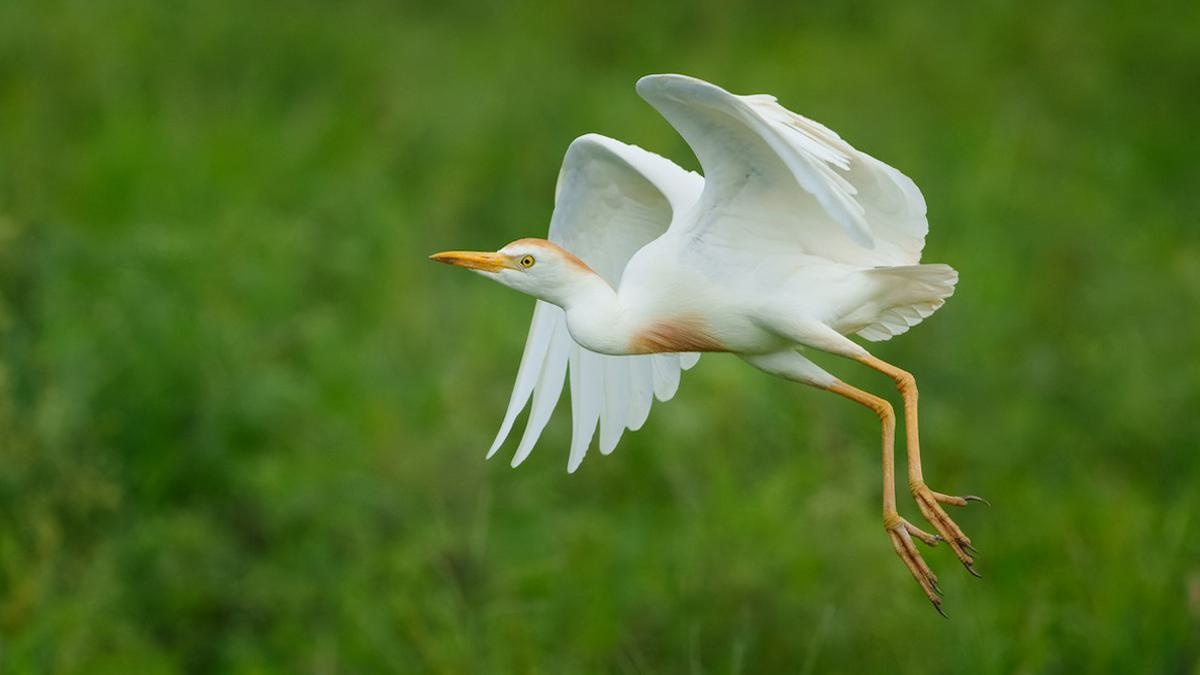egret: (435, 58, 1011, 614)
